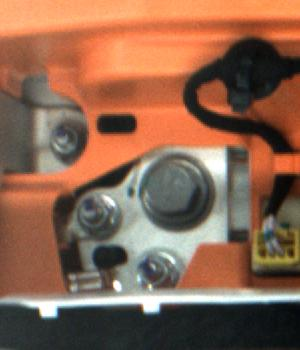screw_s: (48, 117, 89, 162), (72, 194, 114, 236), (135, 252, 180, 290)
